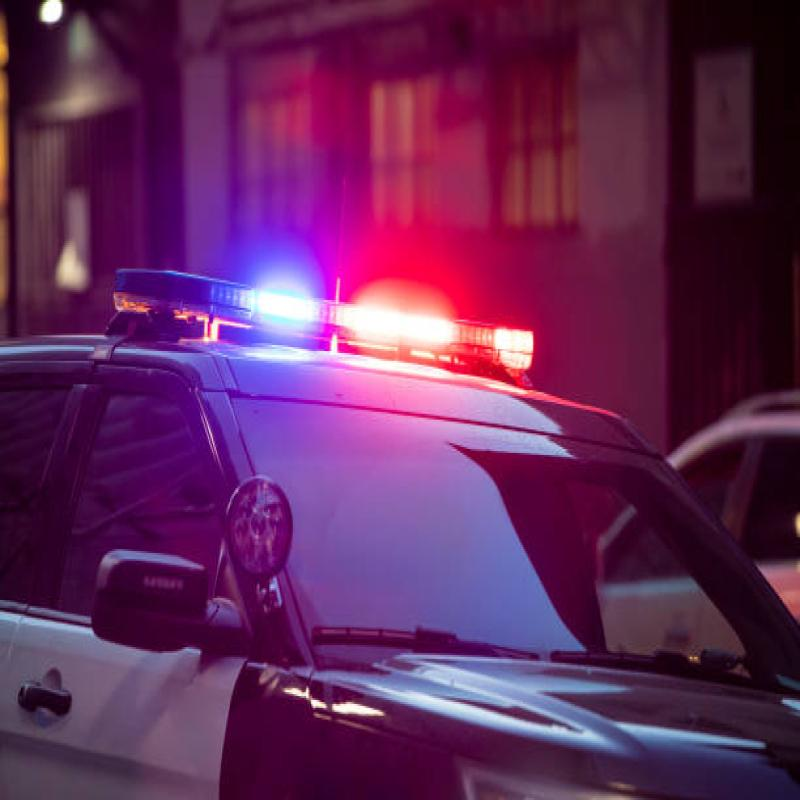AmbulanceSiren: (137, 245, 570, 387)
